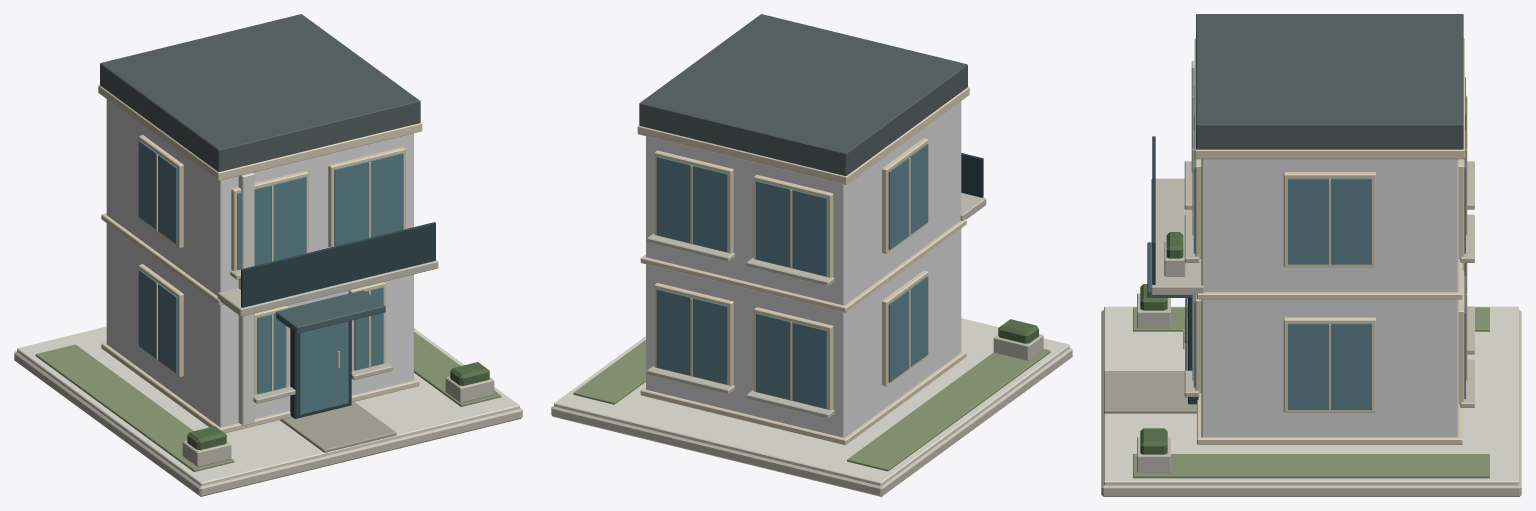
File: small-2x2-b.glb
3 views of the same model, side by side, from view 1: azimuth 30°, elevation 25°; view 2: azimuth 150°, elevation 25°; view 3: azimuth 270°, elevation 25° (orthographic). The views are drawn at different scales.
Visible parts, largest first — view 1: BuildingBody, FlatParapet, LotTop, BalconyFront, GrassSide, LotBase, WindowGlass.006, WindowGlass.004, EntryDoor, EntryPath, VerticalEntryAccent, RoofCap (+20 smaller); view 2: BuildingBody, FlatParapet, LotTop, GrassSide, LotBase, WindowGlass.003, WindowGlass.007, WindowGlass.005, WindowGlass.001, SideGlass, SideGlass.002, RoofCap (+16 smaller); view 3: BuildingBody, FlatParapet, LotTop, GrassSide.001, SideGlass.001, SideGlass.003, LotBase, EntryPath, Balcony, RoofCap, FloorBand, FloorBand.001 (+17 smaller).
Boxes of the visible parts, x1,y1,x2,y2 form: BuildingBody: [106, 99, 413, 427]; FlatParapet: [100, 14, 420, 171]; LotTop: [17, 326, 519, 486]; BalconyFront: [241, 222, 435, 307]; GrassSide: [35, 344, 234, 471]; LotBase: [14, 351, 522, 496]; WindowGlass.006: [334, 153, 403, 246]; WindowGlass.004: [237, 176, 306, 269]; EntryDoor: [299, 321, 348, 414]; EntryPath: [280, 402, 396, 452]; VerticalEntryAccent: [238, 172, 254, 425]; RoofCap: [98, 85, 422, 180]; BuildingBody: [646, 101, 961, 437]; FlatParapet: [639, 14, 967, 175]; LotTop: [554, 318, 1069, 485]; GrassSide: [847, 349, 1050, 471]; LotBase: [551, 347, 1072, 496]; WindowGlass.003: [656, 289, 727, 384]; WindowGlass.007: [656, 156, 727, 252]; WindowGlass.005: [756, 181, 827, 276]; WindowGlass.001: [756, 313, 827, 408]; SideGlass: [888, 276, 928, 382]; SideGlass.002: [888, 144, 928, 249]; RoofCap: [637, 86, 969, 184]; BuildingBody: [1201, 159, 1458, 437]; FlatParapet: [1196, 14, 1463, 149]; LotTop: [1104, 306, 1518, 485]; GrassSide.001: [1133, 454, 1489, 478]; SideGlass.001: [1288, 323, 1371, 409]; SideGlass.003: [1288, 178, 1371, 264]; LotBase: [1101, 310, 1521, 496]; EntryPath: [1104, 371, 1196, 413]; Balcony: [1151, 178, 1203, 294]; RoofCap: [1194, 38, 1464, 159]; FloorBand: [1197, 393, 1462, 444]; FloorBand.001: [1197, 259, 1462, 299].
Bounding box in the file's own units: 8 × 7.15 × 8.
